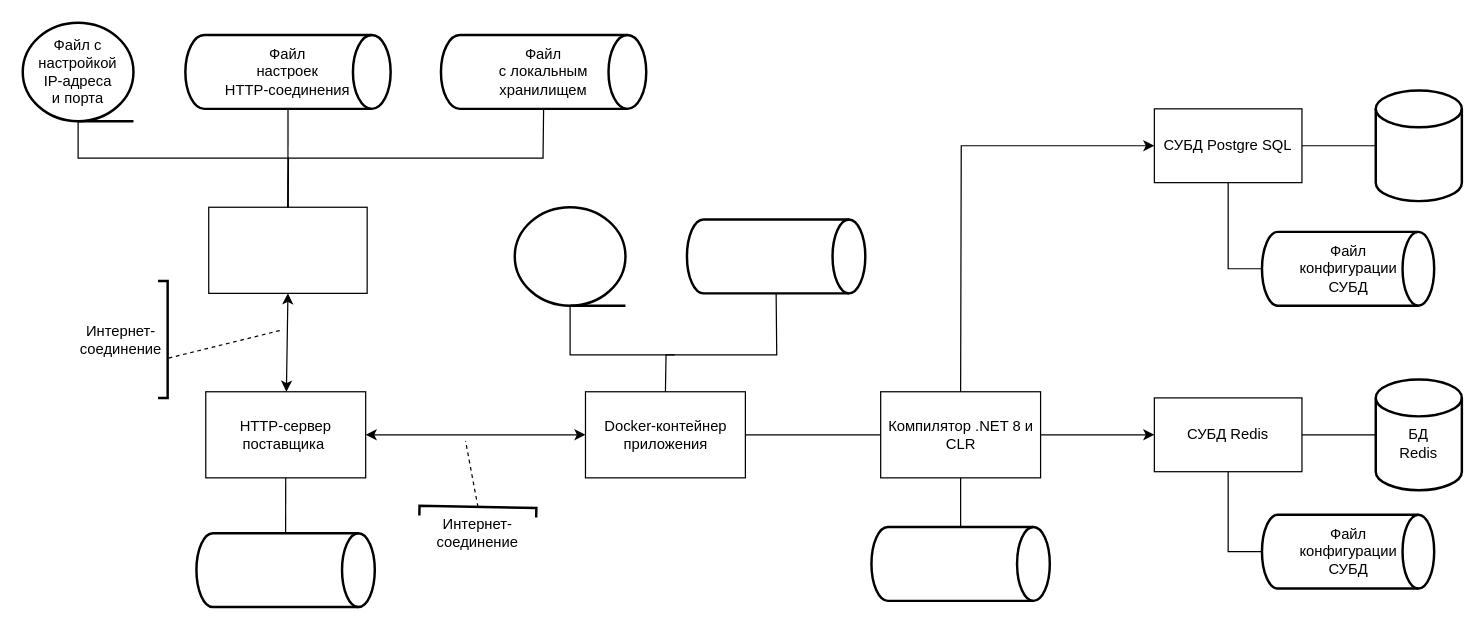
Some shapes in this 1483 by 629 pixel diagram are drawn without their labels. Each missing label, with the centre of its shape:
"БД Postgre SQL" belongs at pixel 1418 145.
"Мобильное устройство пользователя" belongs at pixel 287 249.
"Файл конфигурации Dockerfile" belongs at pixel 775 256.
"Файл конфигурации HTTP-сервера" belongs at pixel 285 569.
"Файл конфигурации компилятора" belongs at pixel 960 563.
"Файл с образом приложения" belongs at pixel 569 255.
